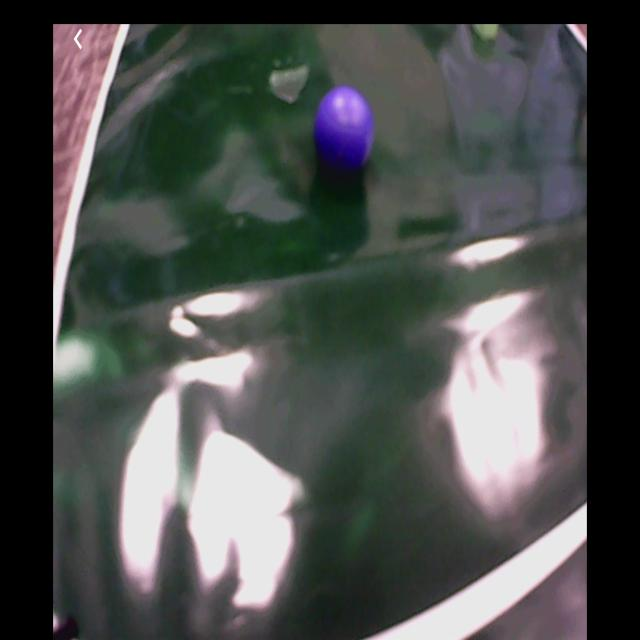ball: (315, 90, 375, 177)
